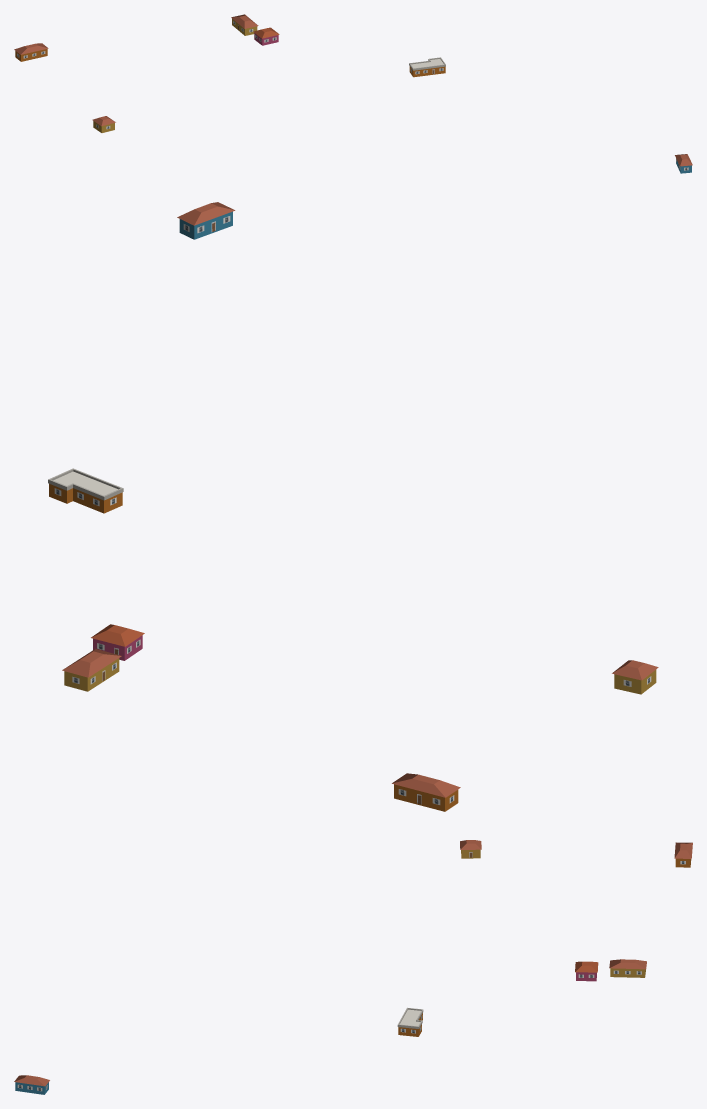
Rendered from msb_sannicolas_17_21.glb.
3 renders of one model, top to bottom at view 1: azimuth 30°, elevation 25°; view 2: azimuth 150°, elevation 25°; view 3: azimuth 270°, elevation 25°, orthographic. The views are drawn at different scales.
Parts seen in each view (by area): view 1: msb_sannicolas_17_21_lod0; view 2: msb_sannicolas_17_21_lod0; view 3: msb_sannicolas_17_21_lod0.
Part boxes in pixels (x1,y1,x2,y2): msb_sannicolas_17_21_lod0: [14, 14, 692, 173]; msb_sannicolas_17_21_lod0: [48, 202, 658, 811]; msb_sannicolas_17_21_lod0: [14, 840, 692, 1094].
Size of what is drawn, in the model's own units: 199 by 7.53 by 235.
3 materials, 1 textured.
